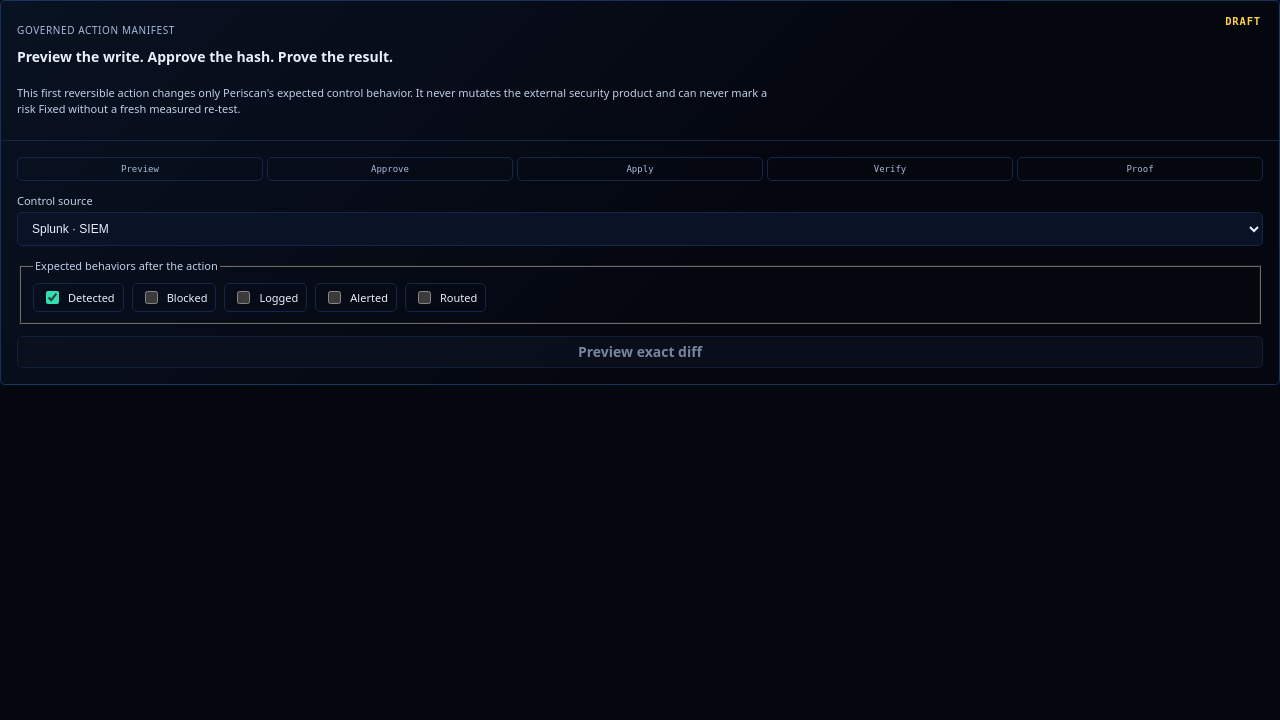
Scenario: GovernedRemediationAction › previews, approves, applies, and rolls back the exact hashed diff
Click the checkbox labelled "Alerted" at (335, 297), box [328,291,341,304]
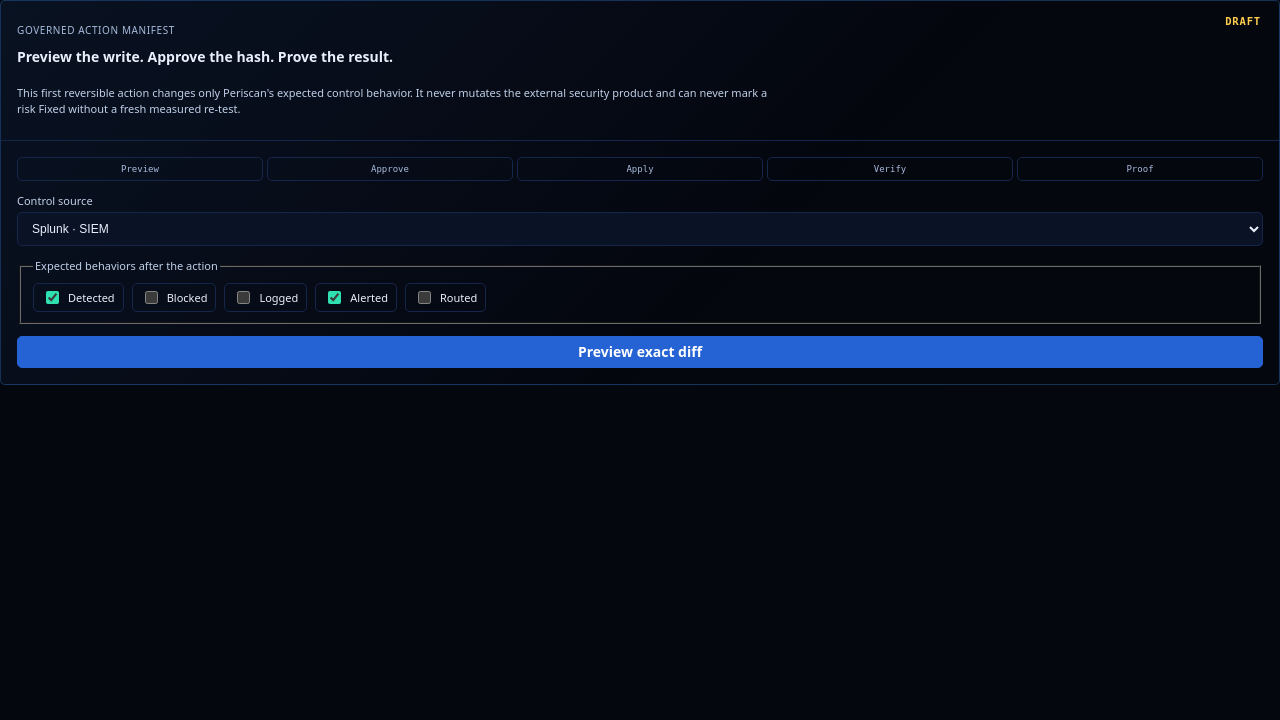
Click the button "Preview exact diff" at (640, 352), box [17,336,1263,368]
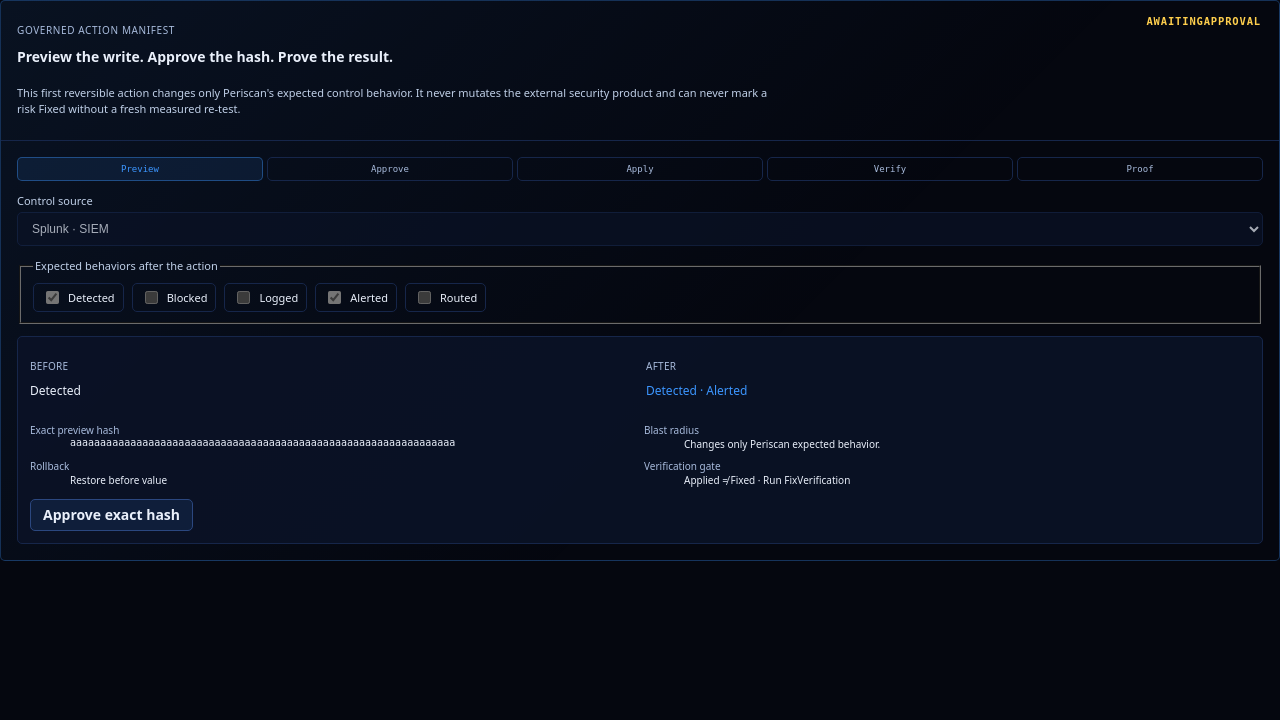
Now the text "Applied ≠ Fixed · Run FixVerification" is shown, box [684,473,850,487]
Click the button "Approve exact hash" at (112, 515), box [30,499,193,531]
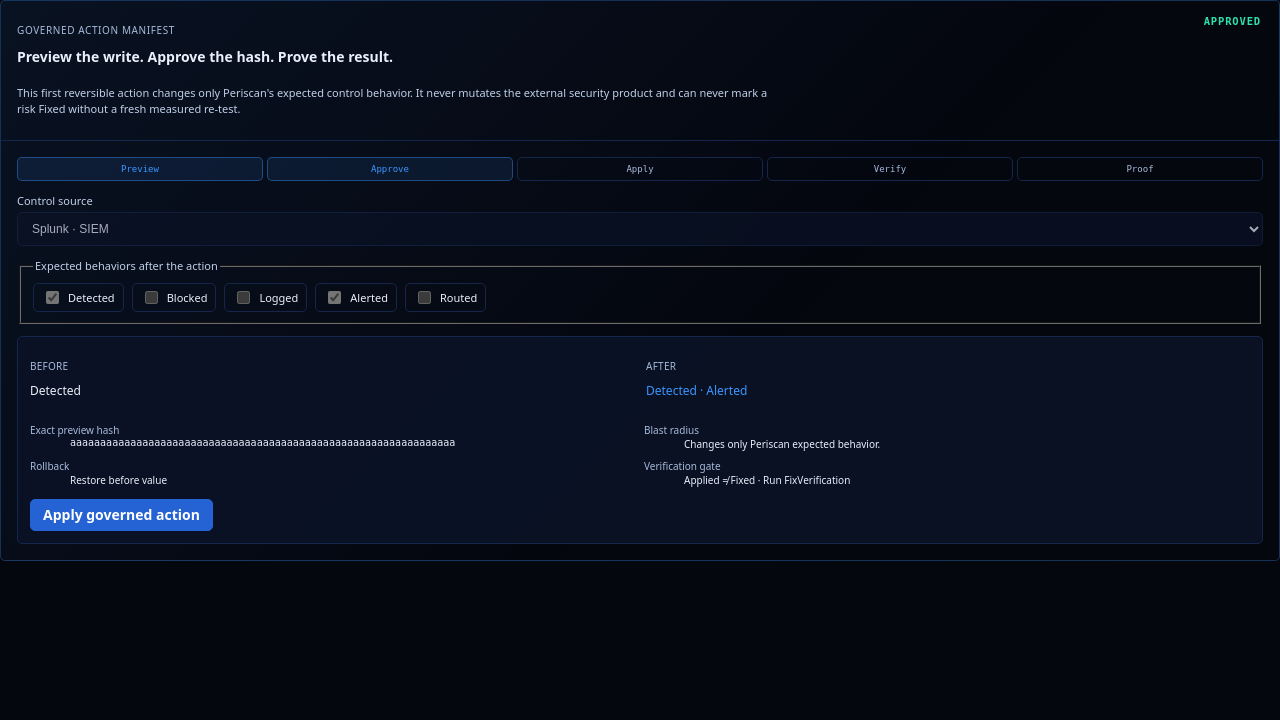
Click the button "Apply governed action" at (122, 515), box [30,499,213,531]
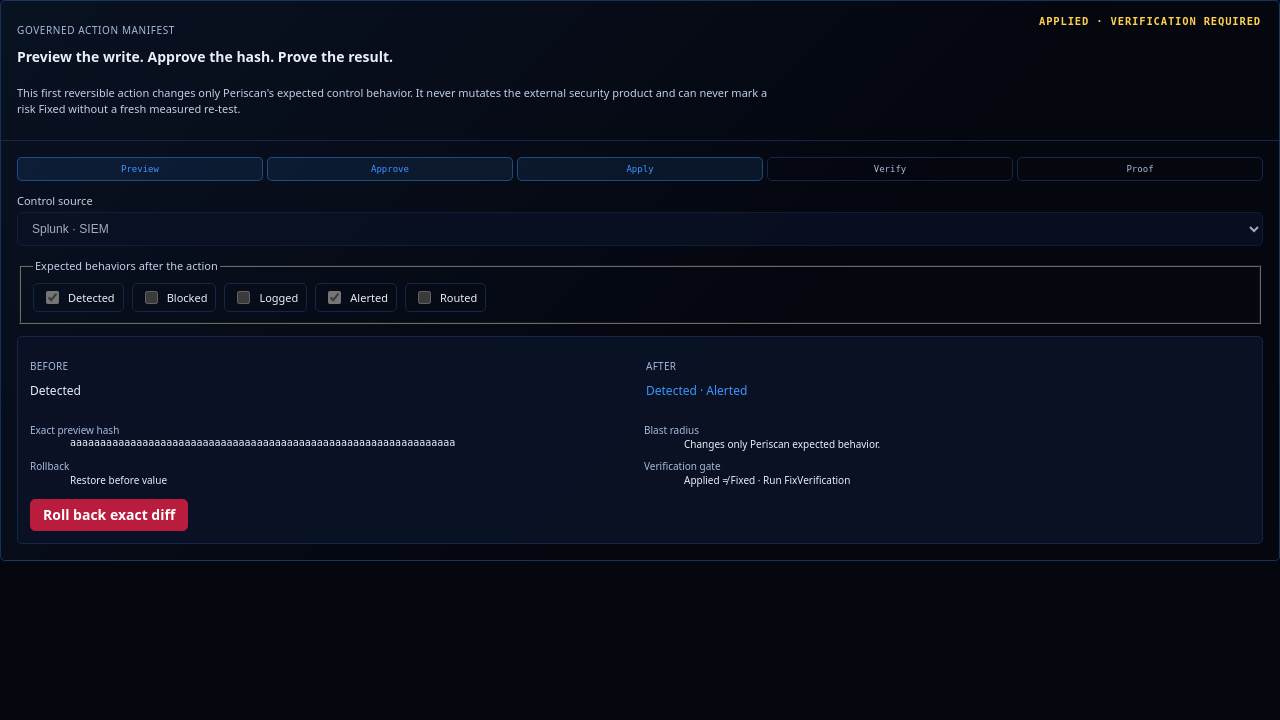
Now the text "Applied · verification required" is shown, box [1037,13,1263,29]
Click the button "Roll back exact diff" at (109, 515), box [30,499,188,531]
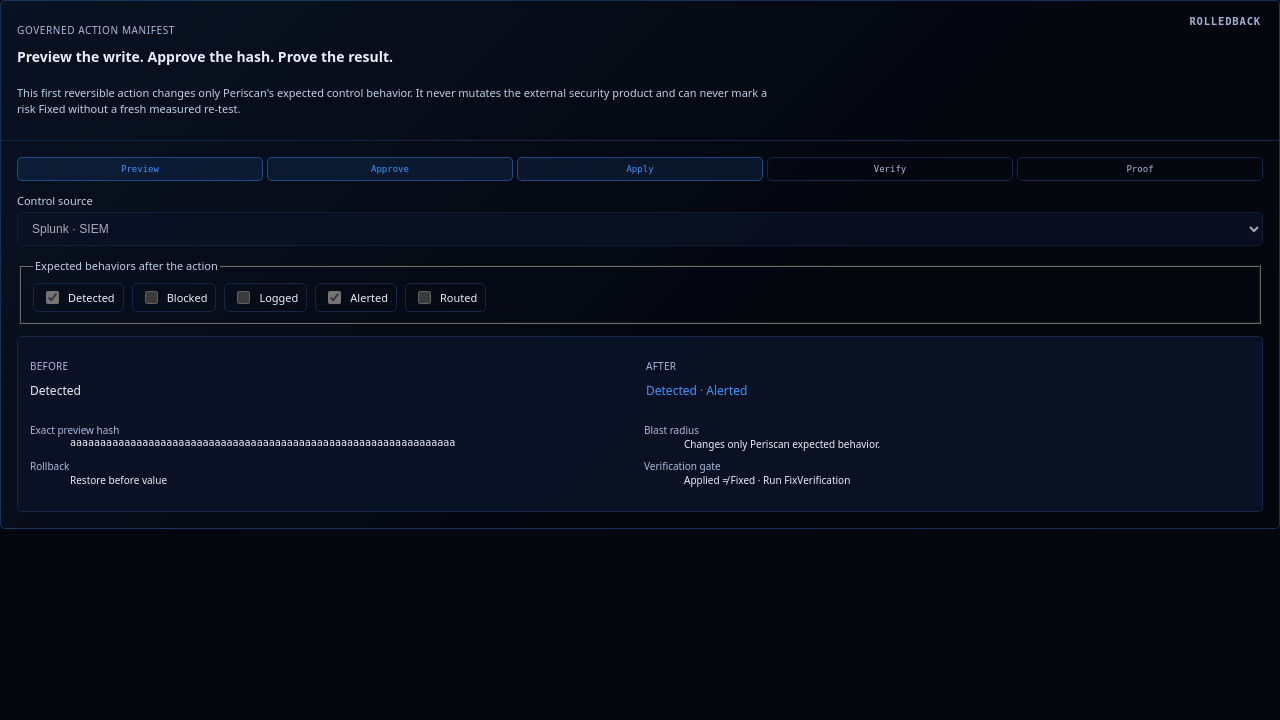
Now the text "RolledBack" is shown, box [1187,13,1263,29]
